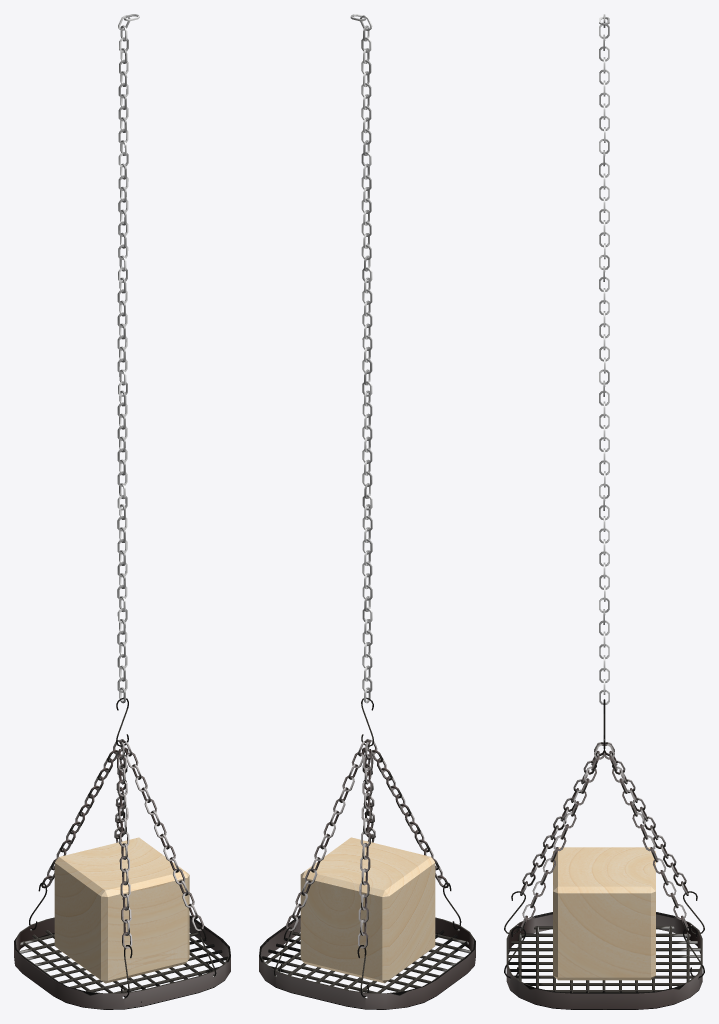
File: rihuto_Bdown_B.fbx
3 renders of one model, left to right at view 1: azimuth 30°, elevation 25°; view 2: azimuth 150°, elevation 25°; view 3: azimuth 270°, elevation 25°, orthographic.
Visible parts, largest first — view 1: rihutoB_L; view 2: rihutoB_L; view 3: rihutoB_L.
Part boxes in pixels (bbox=[...]): rihutoB_L: bbox=[14, 14, 230, 1009]; rihutoB_L: bbox=[259, 14, 475, 1009]; rihutoB_L: bbox=[504, 14, 704, 1009].
Size of the model in its own units: 58.65 by 314 by 59.76.
Materials: 3 (3 with a texture image).
